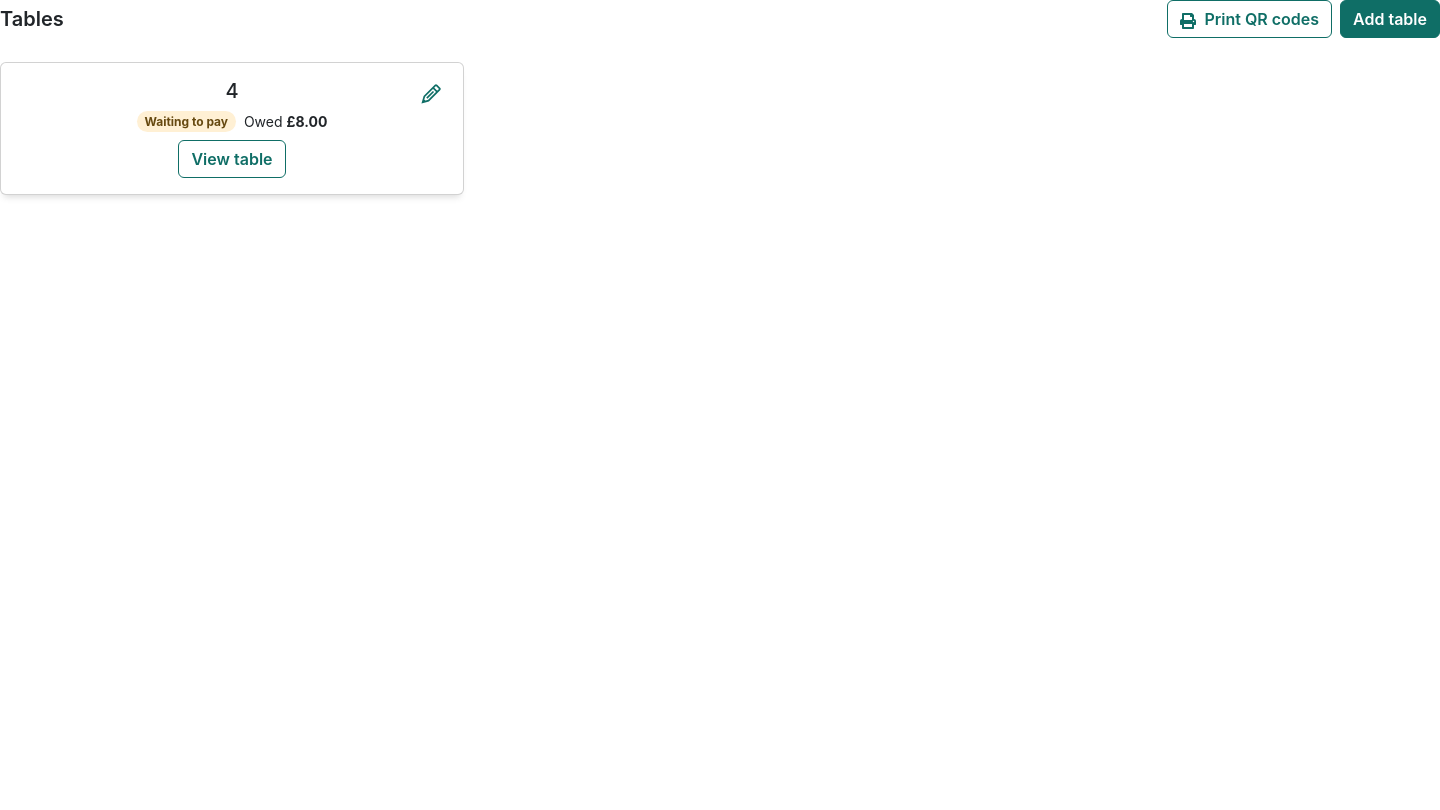
it: table sheet actions › says the cart will be deleted when nothing on it was paid
Click the button with aria-label "View table 4": (232, 159) [178,140,286,178]
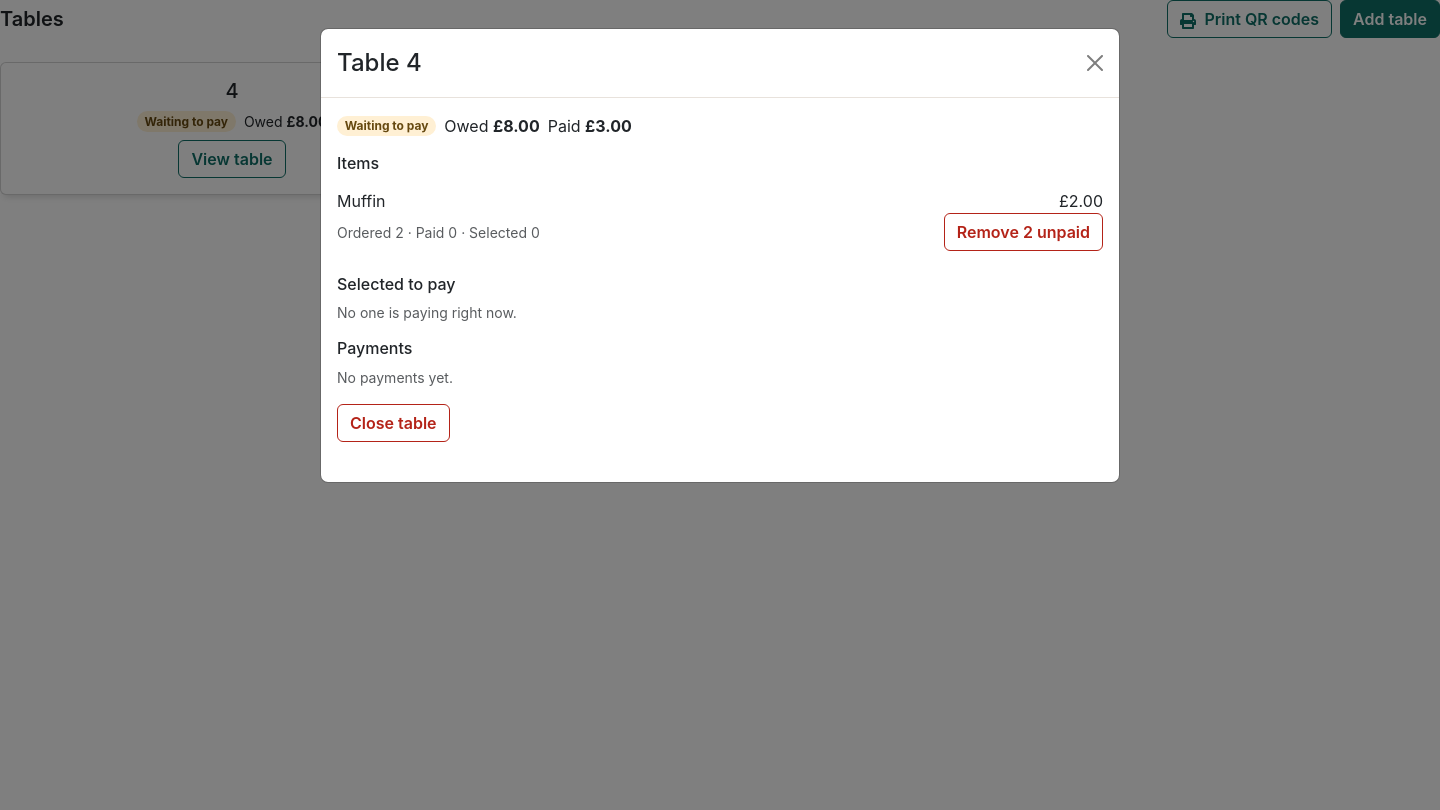
Click the button "Close table": (393, 423) [337,404,450,442]
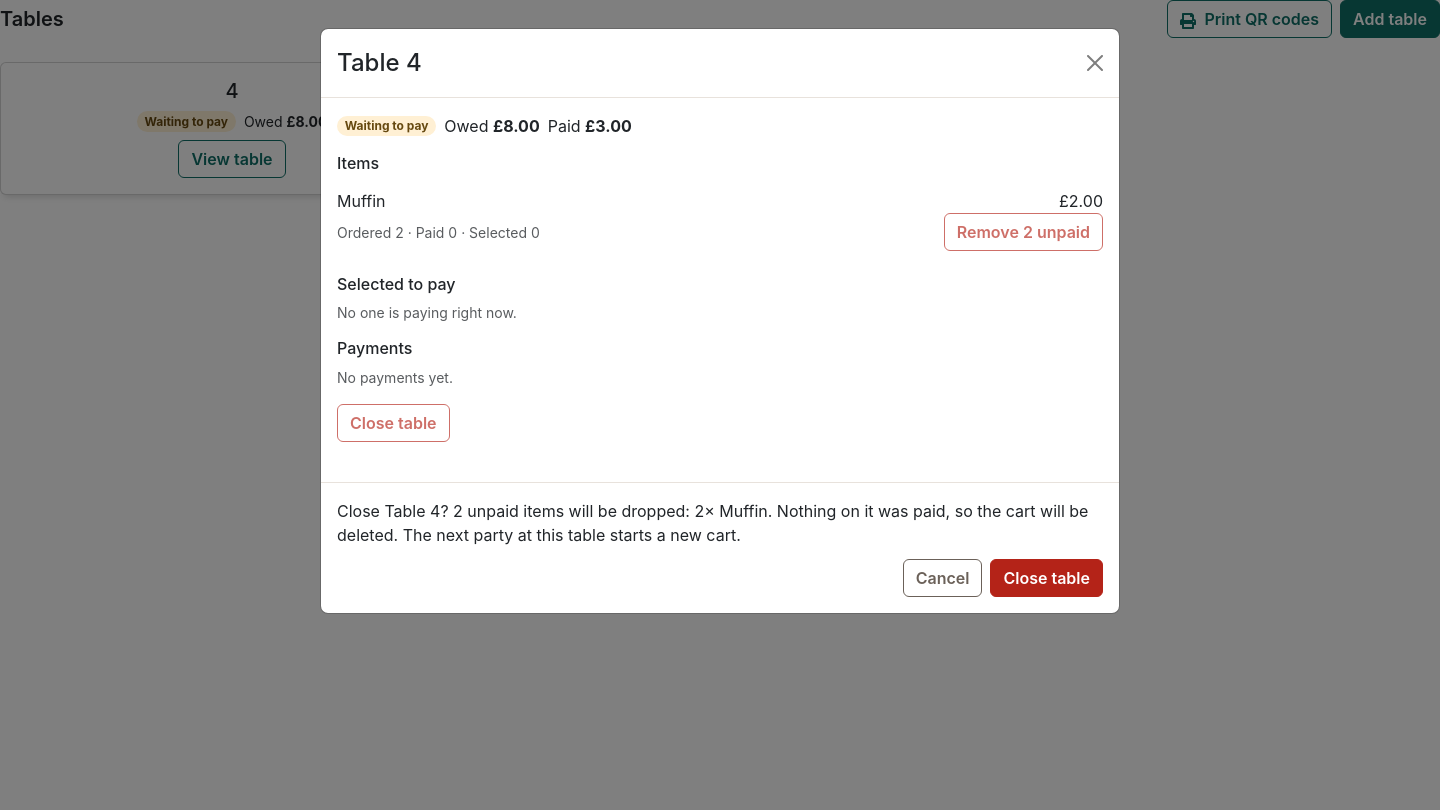
Now the text "Close Table 4?" shows "2 unpaid items will be dropped: 2× Muffin. Nothing on it was paid, so the cart will be deleted.", box [337,501,1088,545]
